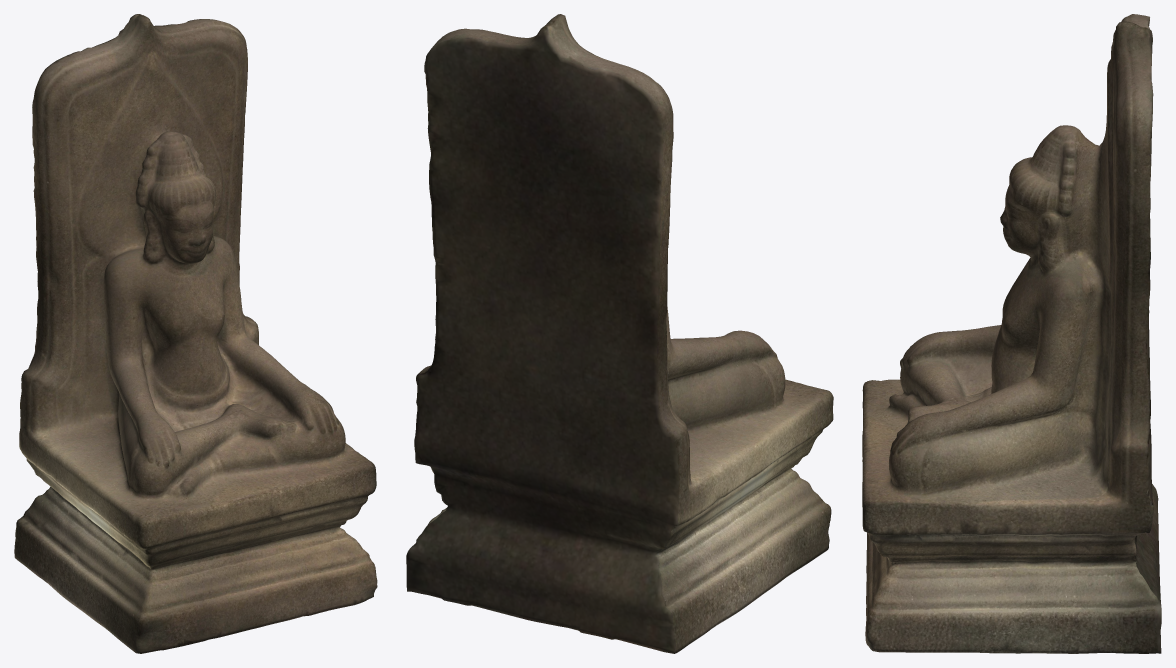
File: 19_thanphuonghuong_isana_final.glb
The picture shows the model from 3 angles, left to right: view 1: azimuth 30°, elevation 25°; view 2: azimuth 150°, elevation 25°; view 3: azimuth 270°, elevation 25°; orthographic projection. The views are drawn at different scales.
Size of the model in its own units: 0.3764 by 0.7769 by 0.3705.
Materials: 1 (1 with a texture image).
